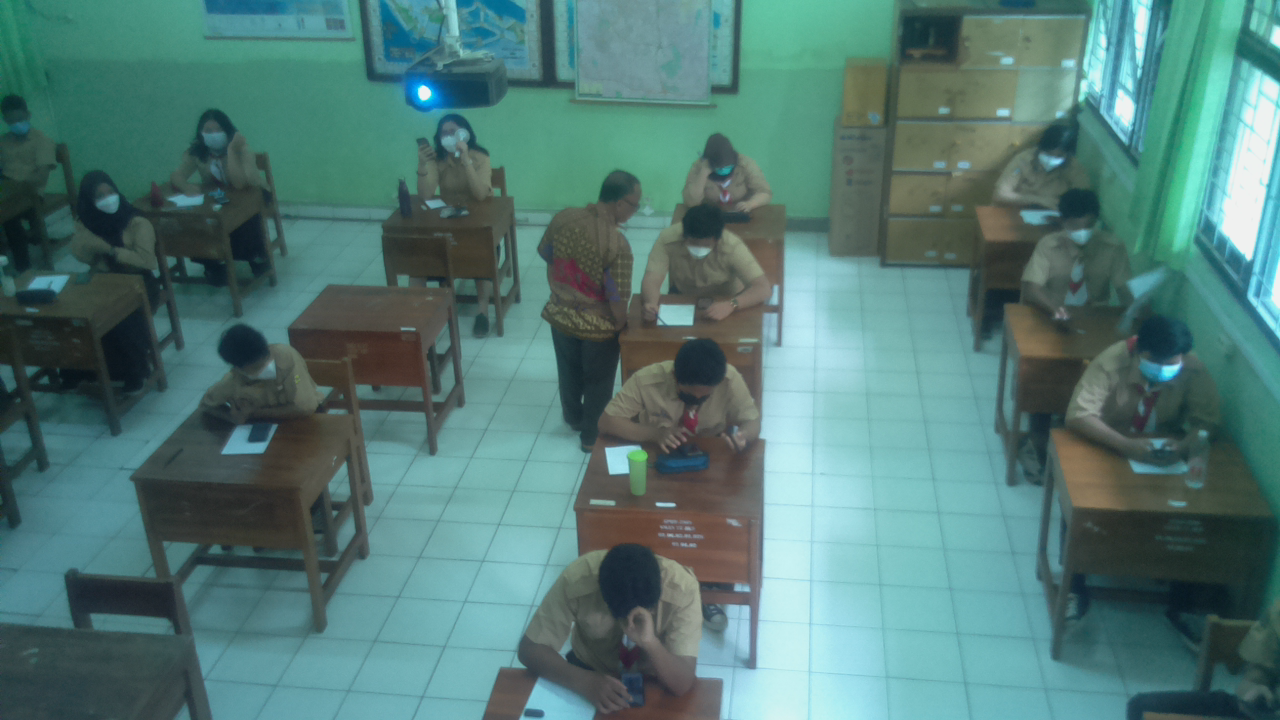Student: (559, 547, 699, 677), (547, 167, 634, 329), (1099, 315, 1212, 435), (625, 339, 742, 437), (647, 205, 750, 301), (1037, 187, 1122, 298), (203, 331, 312, 414), (69, 175, 157, 272), (997, 121, 1078, 204), (407, 115, 491, 193), (679, 135, 763, 208), (0, 95, 56, 190), (179, 111, 252, 180)
